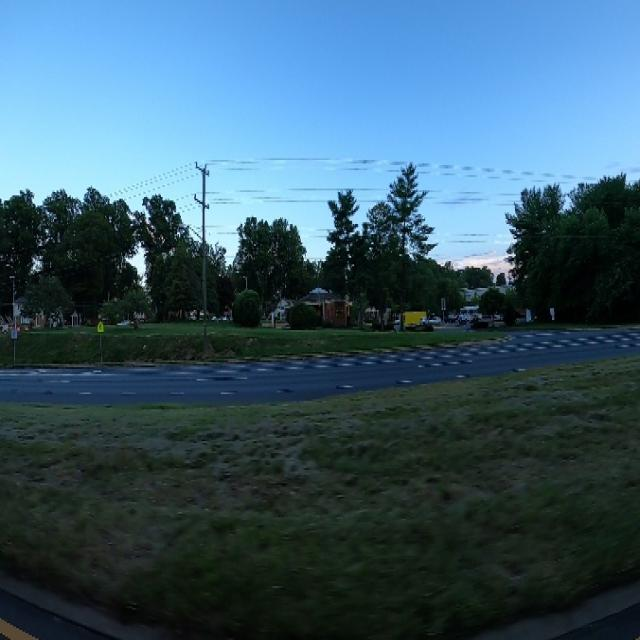cars: (459, 298, 485, 328), (429, 312, 442, 331)
